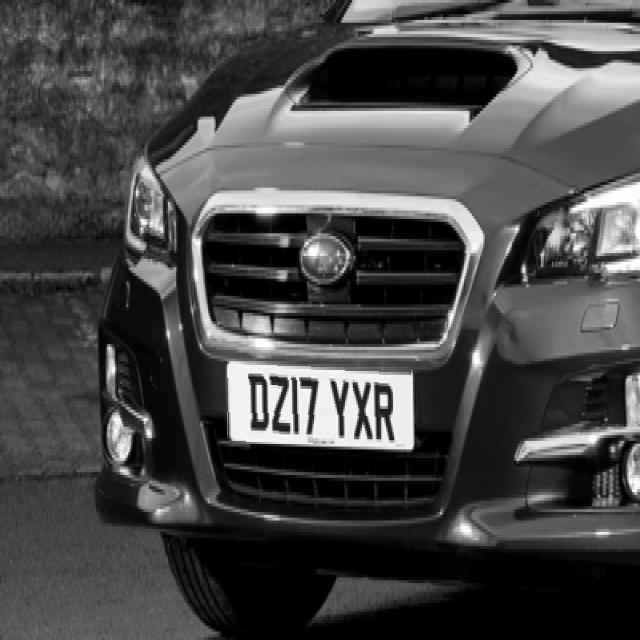licence: (226, 361, 411, 444)
